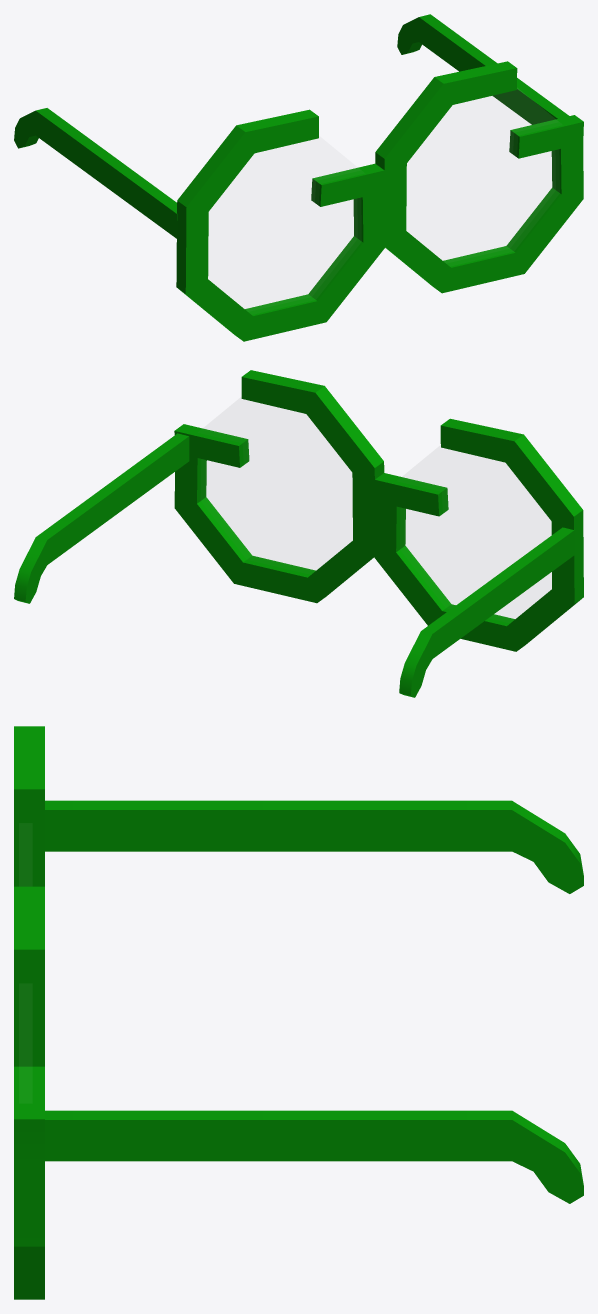
Rendered from Green Glasses.fbx.
3 views of the same model, one above another, from view 1: azimuth 30°, elevation 25°; view 2: azimuth 150°, elevation 25°; view 3: azimuth 270°, elevation 25° (orthographic). The views are drawn at different scales.
Visible parts, largest first — view 1: Green_Glasses; view 2: Green_Glasses; view 3: Green_Glasses.
Part boxes in pixels (x1,y1,x2,y2): Green_Glasses: [14, 14, 583, 341]; Green_Glasses: [14, 370, 583, 697]; Green_Glasses: [14, 726, 583, 1299].
Size of the model in its own units: 7.32 by 3.68 by 5.48.
